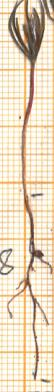flower: (4, 0, 54, 64)
root: (5, 194, 54, 392)
stem: (16, 66, 39, 198)
